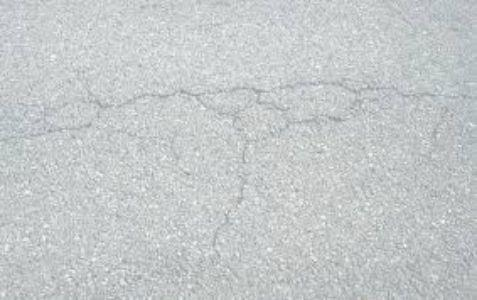alligator-crack: (184, 76, 392, 139)
crack: (0, 87, 189, 138), (208, 148, 251, 287), (388, 83, 477, 105)
